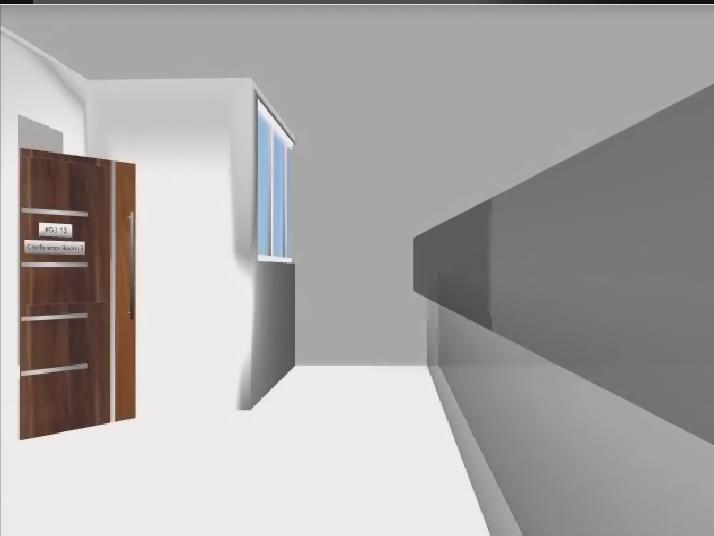door: (20, 148, 136, 440)
